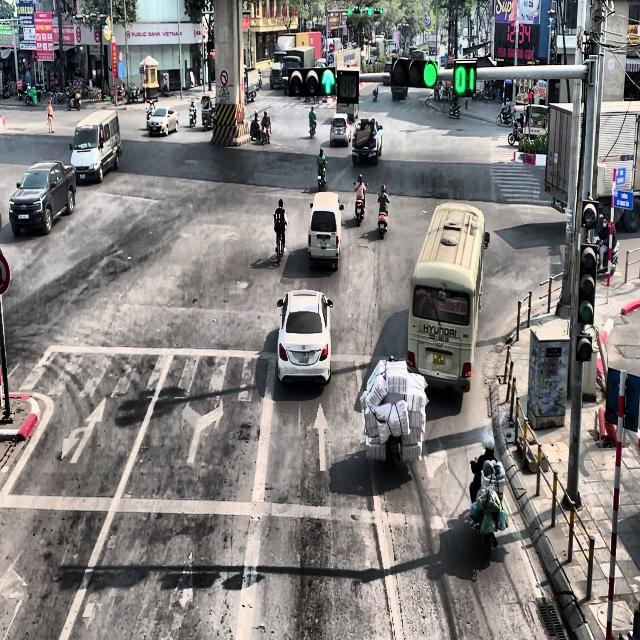BUS: (406, 200, 490, 394)
CAR: (276, 288, 333, 386), (8, 159, 76, 236), (307, 191, 343, 271), (352, 118, 382, 166), (147, 106, 178, 136), (329, 113, 350, 147)
MOTORBIKE: (469, 462, 506, 557), (353, 182, 368, 226), (377, 194, 390, 239), (274, 222, 285, 266), (508, 118, 522, 146), (317, 162, 327, 191), (448, 102, 461, 119), (260, 123, 270, 145), (146, 99, 155, 121), (188, 106, 196, 127), (309, 121, 316, 139)
TRAFFIC_LIGHT: (577, 243, 597, 325), (390, 56, 438, 89), (453, 58, 477, 96), (346, 4, 384, 16), (374, 6, 384, 15), (367, 7, 372, 16), (347, 8, 352, 15)
TRUCK: (544, 99, 640, 233)
